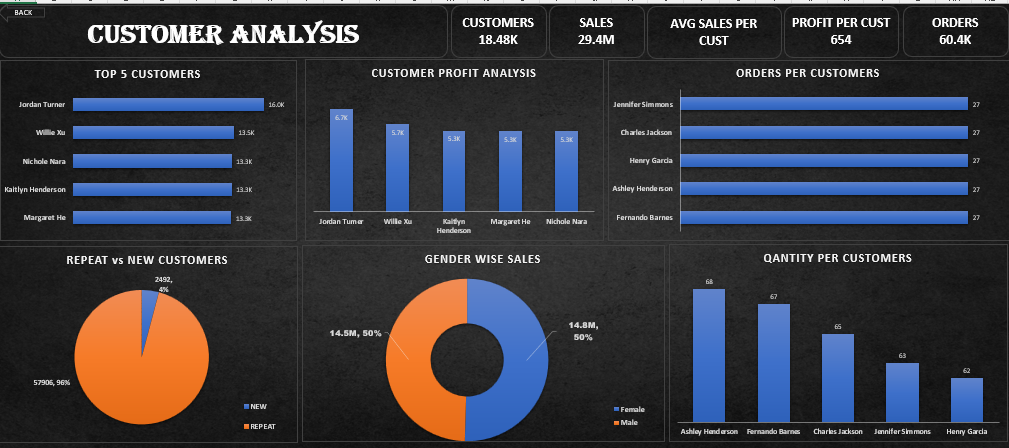

This screenshot's page, from the dashboard's own definition file:
{"tool":"tableau","page":{"name":"Customer analysis","canvas":[1000,1000],"units":"permille","ordinal":0},"visuals":[{"type":"text","box":[6,10,371.2,84.9]},{"type":"worksheet","title":"Total Profit","mark":"Automatic","box":[509.4,10,117.7,87.4]},{"type":"worksheet","title":"Profit Margin","mark":"Automatic","box":[631.3,10,115.9,84.9]},{"type":"worksheet","title":"Total Customers","mark":"Automatic","box":[750.8,10,118.9,84.9]},{"type":"worksheet","title":"Total Sales (2)","mark":"Automatic","box":[380.8,11.2,123.1,84.9]},{"type":"worksheet","title":"Order Quantity","mark":"Automatic","box":[871.5,11.2,122.5,79.9]},{"type":"worksheet","title":"Sales By Gender","mark":"Pie","box":[710.3,101.1,281.2,382]},{"type":"worksheet","title":"Quantity BY Customer","mark":"Automatic","rows":["Calculation_984599530157608964"],"cols":["CustomerKey"],"box":[8.4,103.6,696.4,382]},{"type":"worksheet","title":"Sheet 31","mark":"Automatic","box":[10.9,493.1,9.7,333.3]},{"type":"worksheet","title":"Top 10 Repeated customers","mark":"Automatic","rows":["Calculation_984599530157608964"],"box":[761.6,493.1,229.3,490.6]},{"type":"filter","title":"Sheet 31","param":"[federated.0gbul091on3bhx1da8nw80oyejd2].[none:SalesTerritoryCountry:nk]","box":[9.7,494.4,143.6,264.7]},{"type":"worksheet","title":"Customer Profit Analysis","mark":"Automatic","rows":["Calculation_0485494078660612"],"cols":["Calculation_984599530157608964"],"box":[156.3,495.6,364.5,488.1]},{"type":"worksheet","title":"Top 10 Customers","mark":"Automatic","rows":["Calculation_984599530157608964"],"box":[524.4,495.6,233,484.4]},{"type":"filter","title":"Sheet 33","param":"[federated.0gbul091on3bhx1da8nw80oyejd2].[none:EnglishProductCategoryName:nk]","box":[10.9,765.3,141.2,216]}]}

Visuals, with their boxes on the dashboard's canvas, which has no fixed pixel size, in thousandths of its width and height (x1, y1, x2, y2). These are canvas units, not pixel positions in the 1009x448 screenshot, which may show the page scaled, cropped or inside an application window:
text: 6, 10, 377, 95
"Total Profit" worksheet: 509, 10, 627, 97
"Profit Margin" worksheet: 631, 10, 747, 95
"Total Customers" worksheet: 751, 10, 870, 95
"Total Sales (2)" worksheet: 381, 11, 504, 96
"Order Quantity" worksheet: 872, 11, 994, 91
"Sales By Gender" worksheet (Pie marks): 710, 101, 992, 483
"Quantity BY Customer" worksheet: 8, 104, 705, 486
"Sheet 31" worksheet: 11, 493, 21, 826
"Top 10 Repeated customers" worksheet: 762, 493, 991, 984
"Sheet 31" filter: 10, 494, 153, 759
"Customer Profit Analysis" worksheet: 156, 496, 521, 984
"Top 10 Customers" worksheet: 524, 496, 757, 980
"Sheet 33" filter: 11, 765, 152, 981
